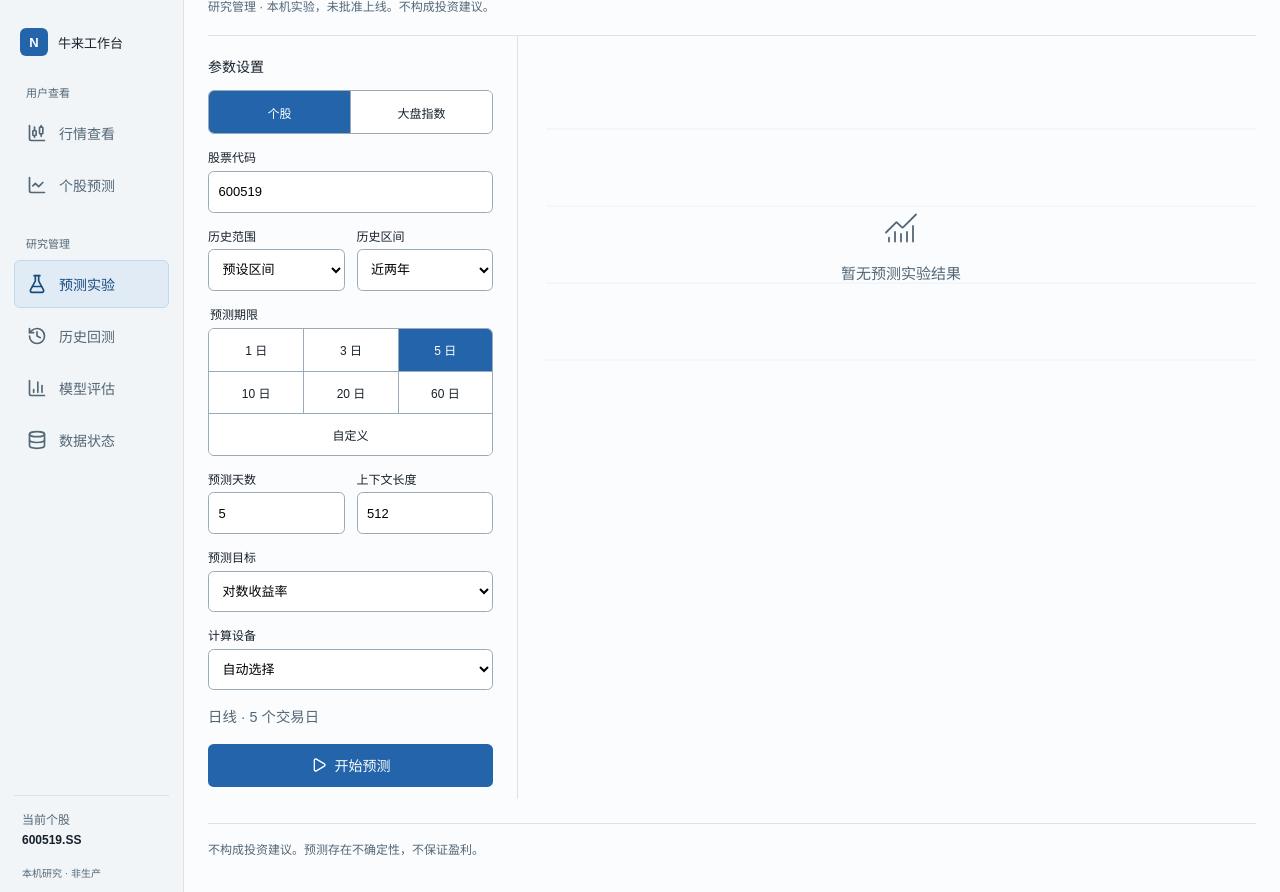
Test: finishes an in-flight experiment while another independent page is open
(page scrolled)
Click the button "开始预测" at (350, 765), box x1=208 y1=744 x2=493 y2=787
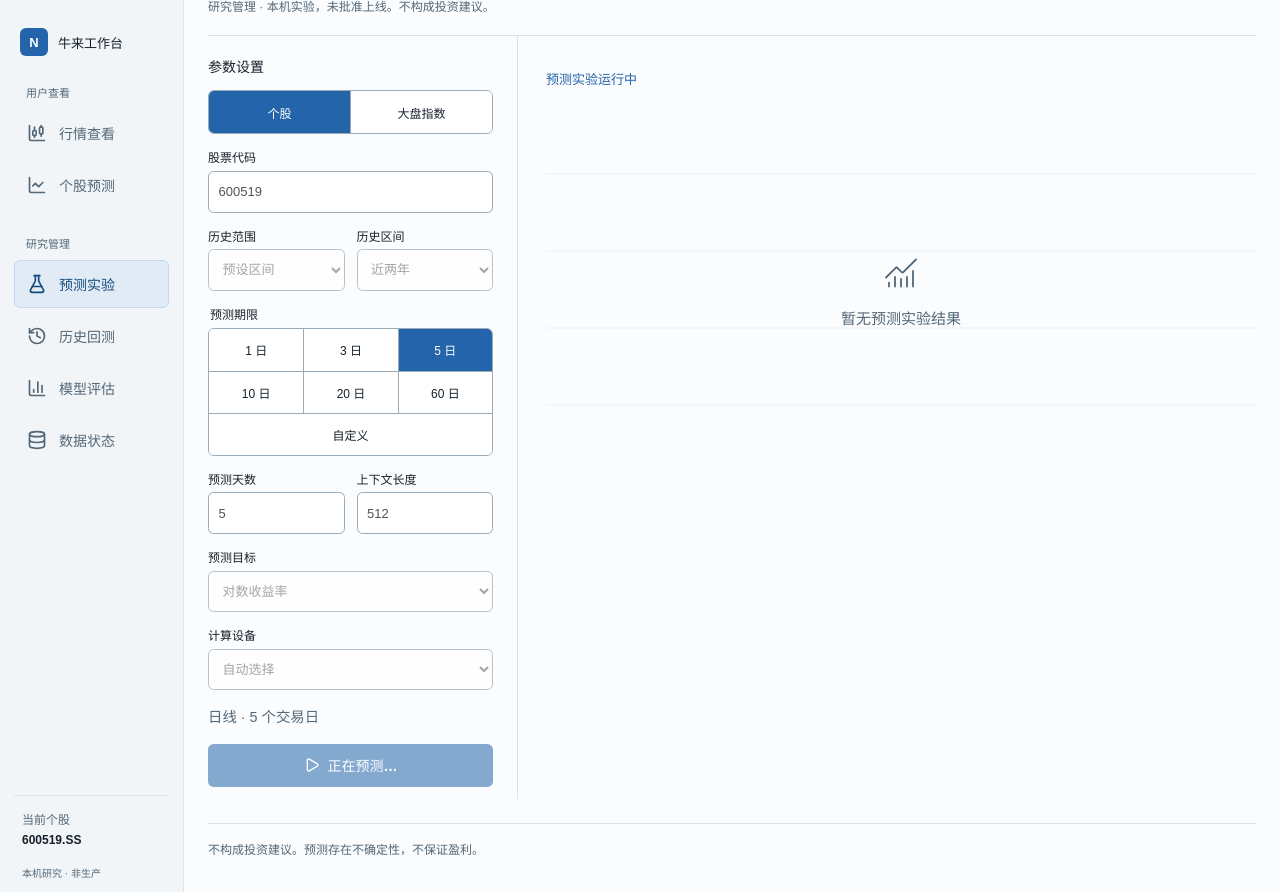
Result: the button "正在预测…" is disabled at x1=208 y1=744 x2=493 y2=787
Click the link "历史回测" at (71, 336), box x1=27 y1=326 x2=115 y2=346
(page scrolled)
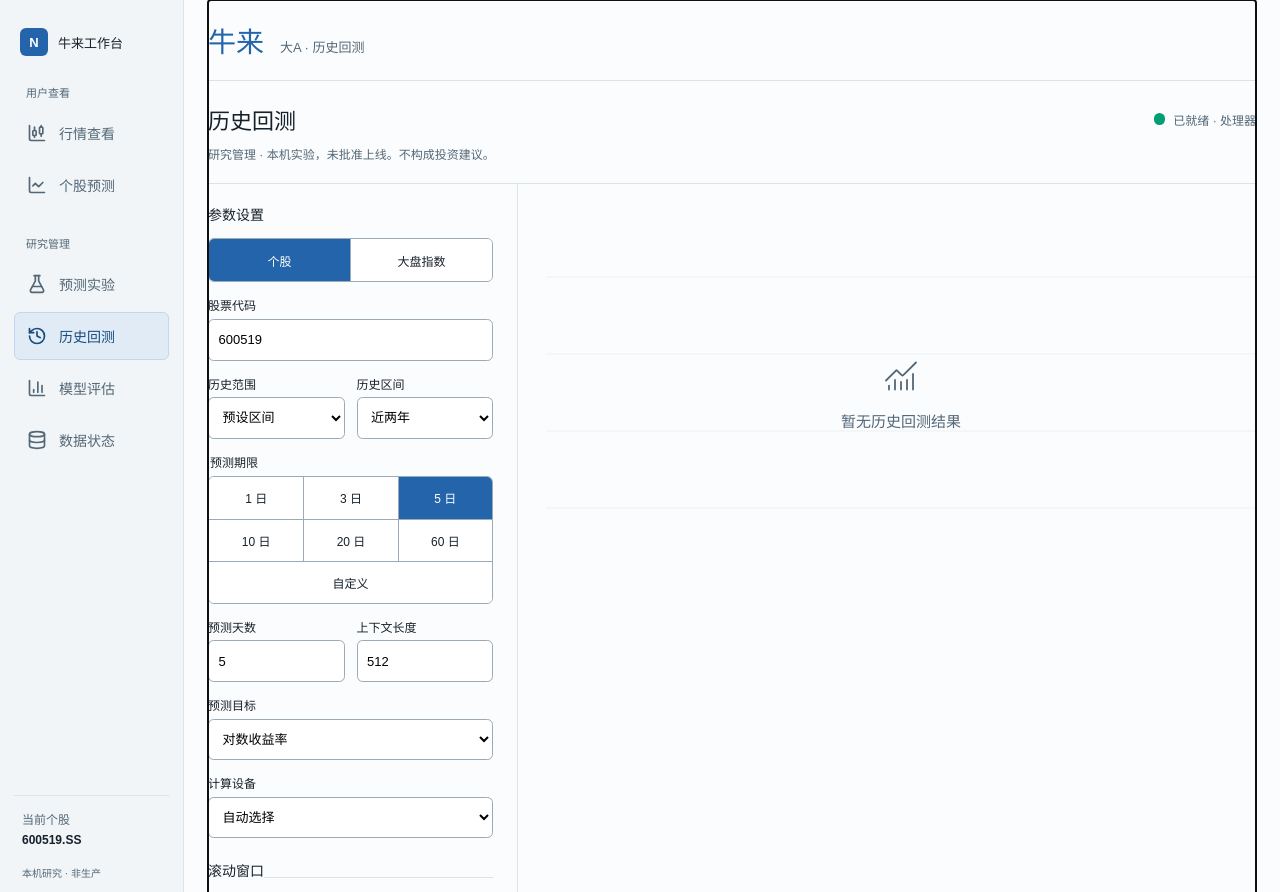
Click the link "预测实验" at (71, 284), box x1=27 y1=274 x2=115 y2=294
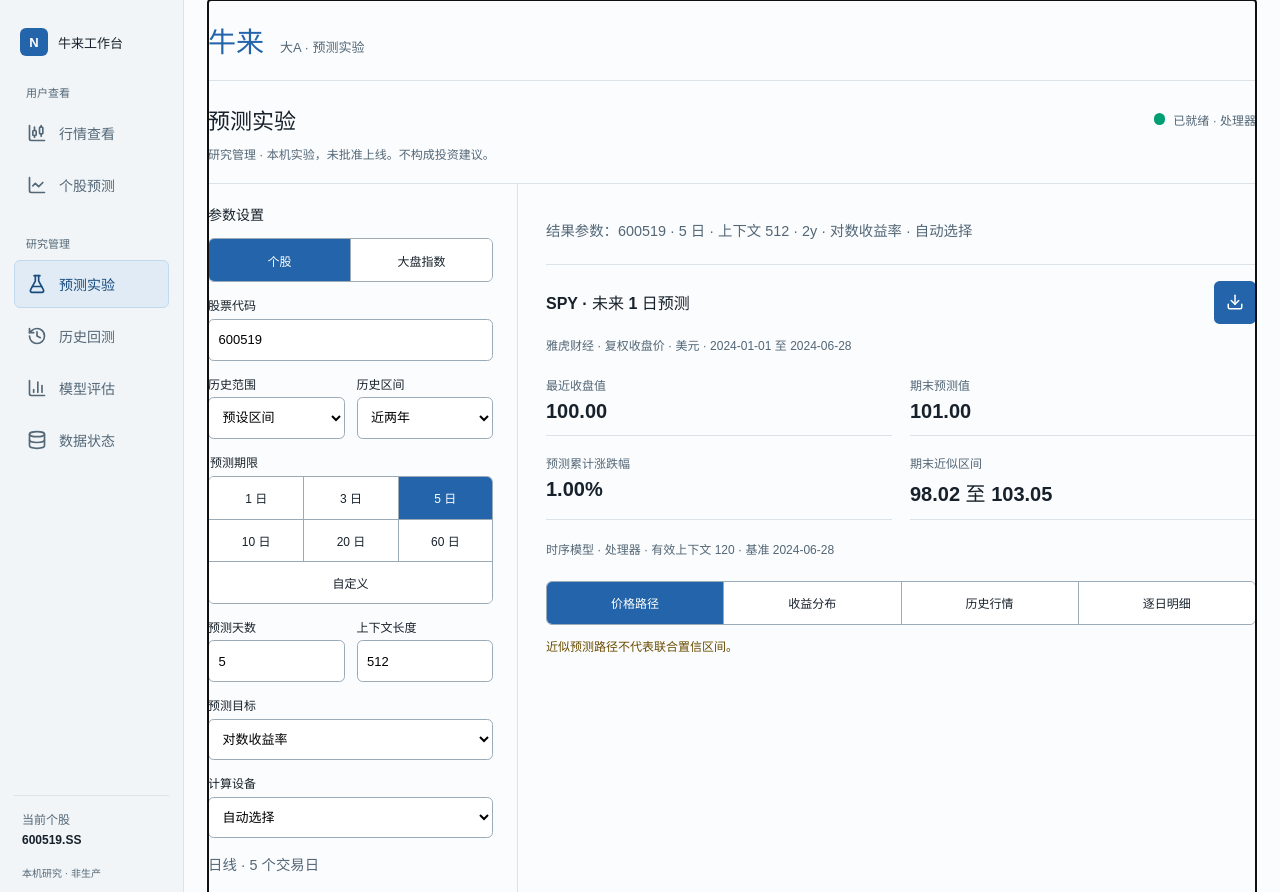
Result: the element named "预测结果" is shown at x1=546 y1=281 x2=1256 y2=657
